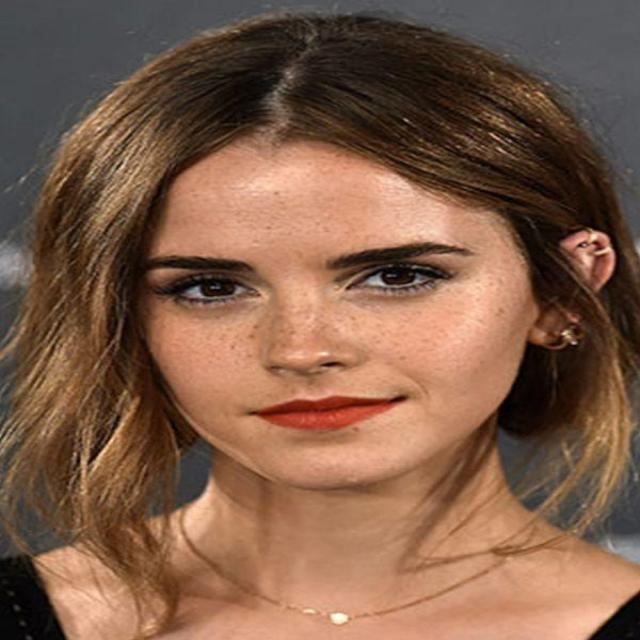freckle: (159, 301, 518, 360)
